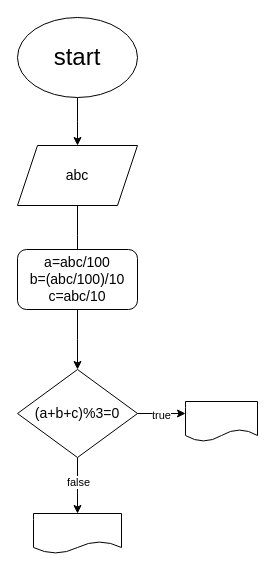
Some shapes in this 275 by 571 pixel diagram are drawn without their labels. The shapes that lost their labels are listed below. From the top down, each one's box as (x1, y1, x2, y2) in pixels, then its label:
(184, 400, 258, 442): 3e bolunur
(32, 512, 122, 554): 3-e bolunmur
